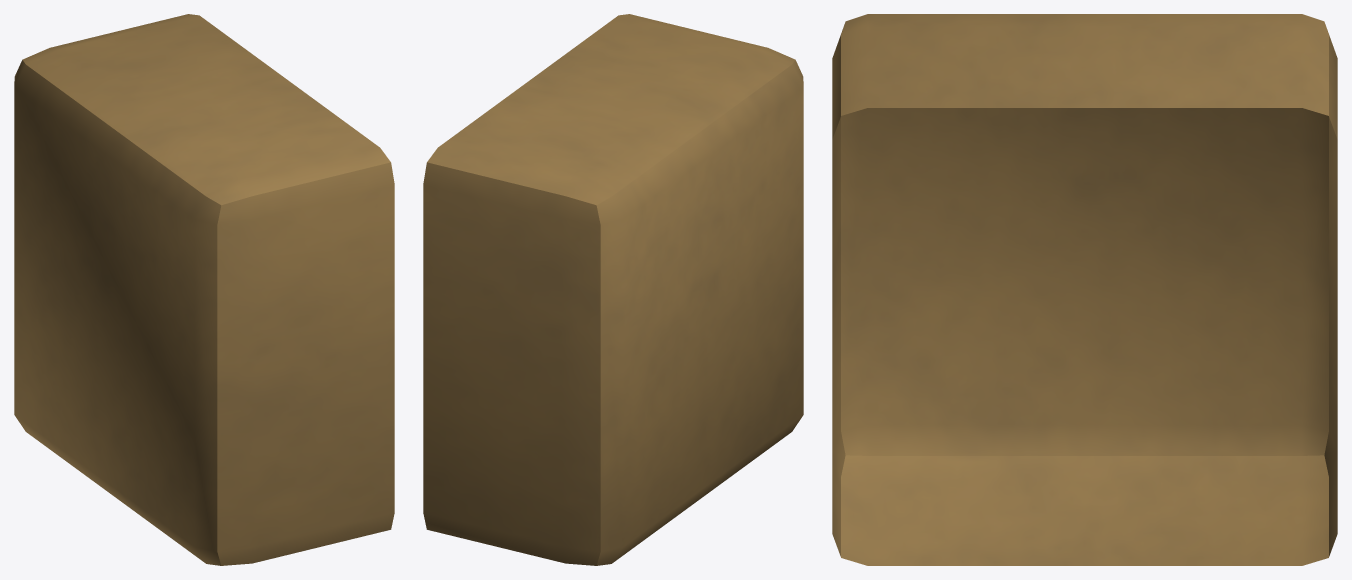
The model's file is Platform Small End EXT.fbx.
The picture shows the model from 3 angles, left to right: view 1: azimuth 30°, elevation 25°; view 2: azimuth 150°, elevation 25°; view 3: azimuth 270°, elevation 25°; orthographic projection. The views are drawn at different scales.
Parts seen in each view (by area): view 1: Platform Small End EXT; view 2: Platform Small End EXT; view 3: Platform Small End EXT.
Boxes of the visible parts, x1,y1,x2,y2 form: Platform Small End EXT: [14, 14, 394, 565]; Platform Small End EXT: [423, 14, 803, 565]; Platform Small End EXT: [832, 14, 1337, 565].
Size of the model in its own units: 12.74 by 25 by 25.
